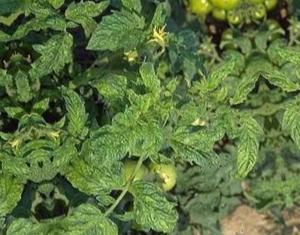Tomato leaf yellow virus: (76, 107, 156, 173), (76, 3, 160, 65), (86, 58, 155, 121), (122, 173, 186, 235), (49, 79, 100, 146), (221, 115, 269, 185), (22, 30, 81, 81), (51, 197, 126, 235)
